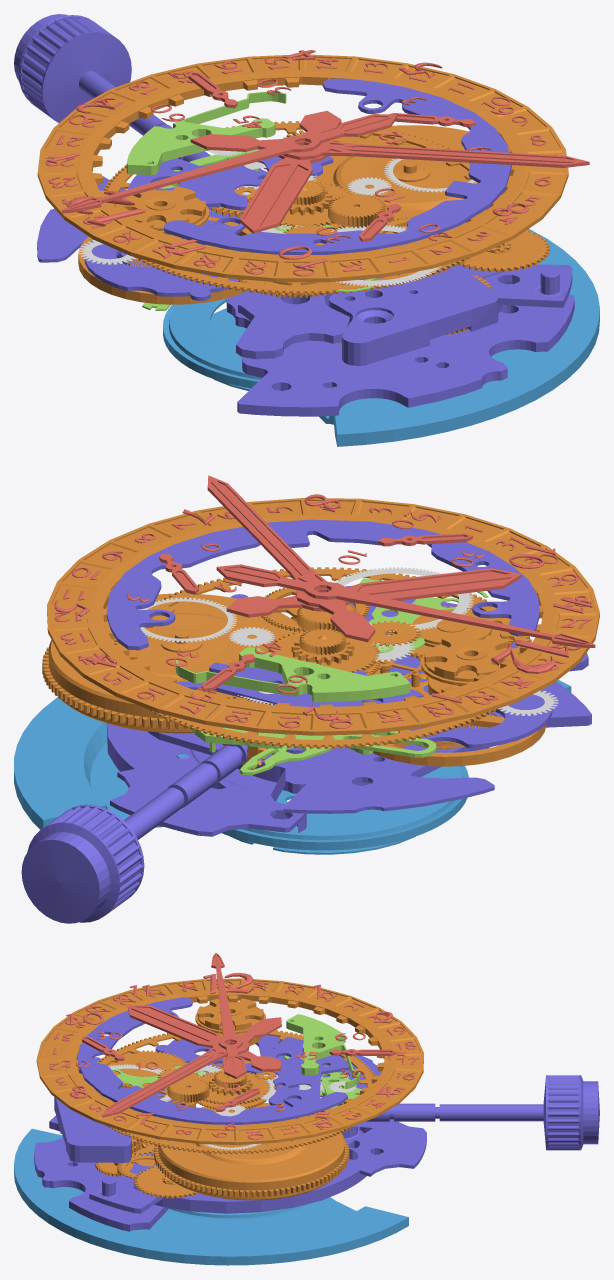
File: TheClock.fbx
The picture shows the model from 3 angles, top to bottom: view 1: azimuth 30°, elevation 25°; view 2: azimuth 150°, elevation 25°; view 3: azimuth 270°, elevation 25°; orthographic projection. The views are drawn at different scales.
Visible parts, largest first — view 1: 46 var, Automatmechanismus, Kalendermodul, 21 VAR.001, 4 Var.001, Handaufzug, 14,1, 12 var.001, Minutenzeiger, Basiswerk, StundenZeiger, Secundenzeiger (+13 smaller); view 2: 46 var, Kalendermodul, Automatmechanismus, 4 Var.001, Handaufzug, 16,1 Var.001, 14,1, 20-1 Var.001, Basiswerk, StundenZeiger, Minutenzeiger, Secundenzeiger (+15 smaller); view 3: Automatmechanismus, 46 var, Kalendermodul, 14,1, 16,1 Var.001, Handaufzug, 4 Var.001, 21 VAR.001, Minutenzeiger, zehner, StundenZeiger, Basiswerk (+9 smaller).
Part boxes in pixels (<box>): 46 var: <box>37,54,568,282</box>; Automatmechanismus: <box>163,224,599,446</box>; Kalendermodul: <box>114,78,511,254</box>; 21 VAR.001: <box>226,277,574,416</box>; 4 Var.001: <box>14,14,210,161</box>; Handaufzug: <box>104,121,503,298</box>; 14,1: <box>312,125,512,233</box>; 12 var.001: <box>236,279,360,359</box>; Minutenzeiger: <box>190,134,589,167</box>; Basiswerk: <box>78,180,437,304</box>; StundenZeiger: <box>239,110,341,233</box>; Secundenzeiger: <box>62,114,397,213</box>; 46 var: <box>47,498,599,735</box>; Kalendermodul: <box>106,519,539,702</box>; Automatmechanismus: <box>14,585,571,854</box>; 4 Var.001: <box>21,744,248,923</box>; Handaufzug: <box>113,567,531,757</box>; 16,1 Var.001: <box>107,594,306,836</box>; 14,1: <box>42,593,299,733</box>; 20-1 Var.001: <box>284,725,494,813</box>; Basiswerk: <box>222,578,546,769</box>; StundenZeiger: <box>226,568,521,617</box>; Minutenzeiger: <box>207,475,375,642</box>; Secundenzeiger: <box>216,564,595,647</box>; Automatmechanismus: <box>14,1067,408,1265</box>; 46 var: <box>36,978,423,1144</box>; Kalendermodul: <box>77,997,360,1124</box>; 14,1: <box>154,1103,349,1200</box>; 16,1 Var.001: <box>89,1119,426,1213</box>; Handaufzug: <box>86,1030,374,1154</box>; 4 Var.001: <box>365,1075,599,1150</box>; 21 VAR.001: <box>34,1115,169,1231</box>; Minutenzeiger: <box>102,1017,281,1117</box>; zehner: <box>49,980,419,1139</box>; StundenZeiger: <box>127,1005,281,1071</box>; Basiswerk: <box>102,1057,342,1140</box>.
Bounding box in the file's own units: 172 × 66.38 × 235.
